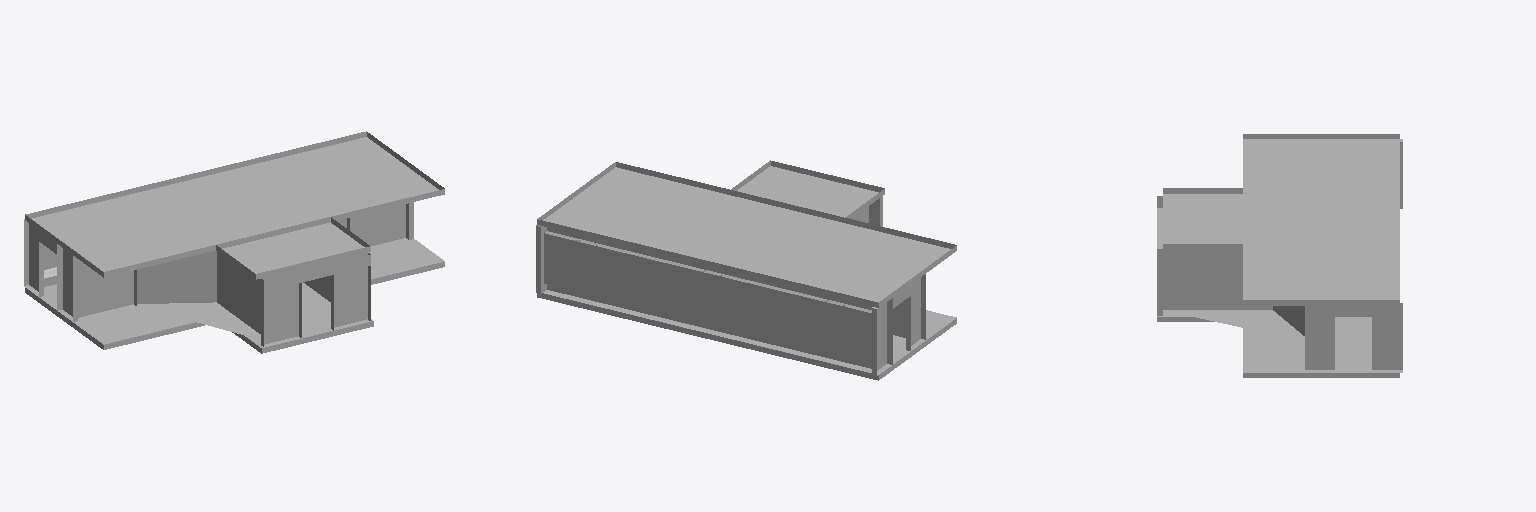
Rendered from HC_room3_2.obj.
3 renders of one model, left to right at view 1: azimuth 30°, elevation 25°; view 2: azimuth 150°, elevation 25°; view 3: azimuth 270°, elevation 25°, orthographic.
Parts seen in each view (by area): view 1: room3z2_opt; view 2: room3z2_opt; view 3: room3z2_opt.
Boxes of the visible parts, <box> form: room3z2_opt: <box>24,131,444,353</box>; room3z2_opt: <box>536,160,956,380</box>; room3z2_opt: <box>1157,134,1402,377</box>.
Size of the model in its own units: 20.48 by 4.48 by 12.8.